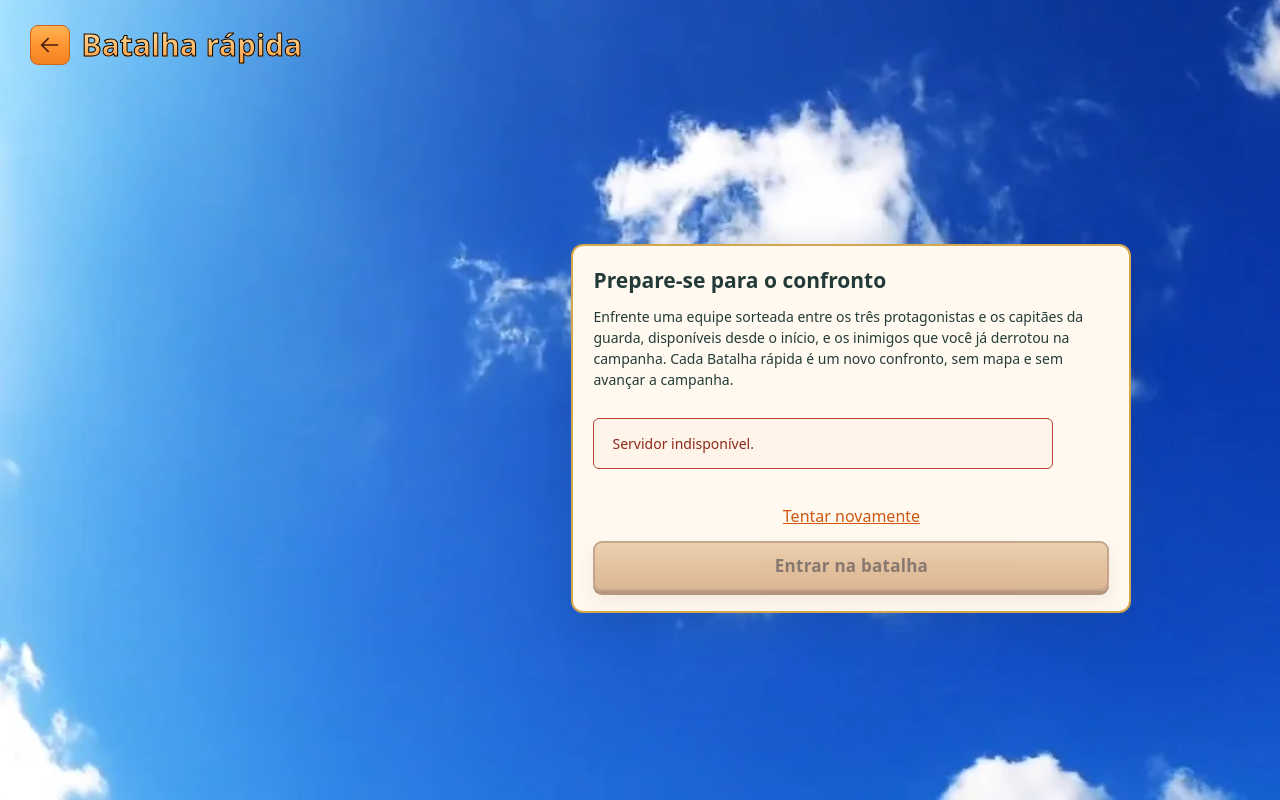
Test case: permite tentar novamente após erro de carregamento
expect the message reads "Servidor indisponível.": met, box [612,434,754,453]
expect the button "Entrar na batalha" is disabled: met, box [594,541,1110,591]
What coordinates should you click on to do the following:
click the button "Tentar novamente"
I would click on:
 (851, 516)
Its box is [775,497,928,535].
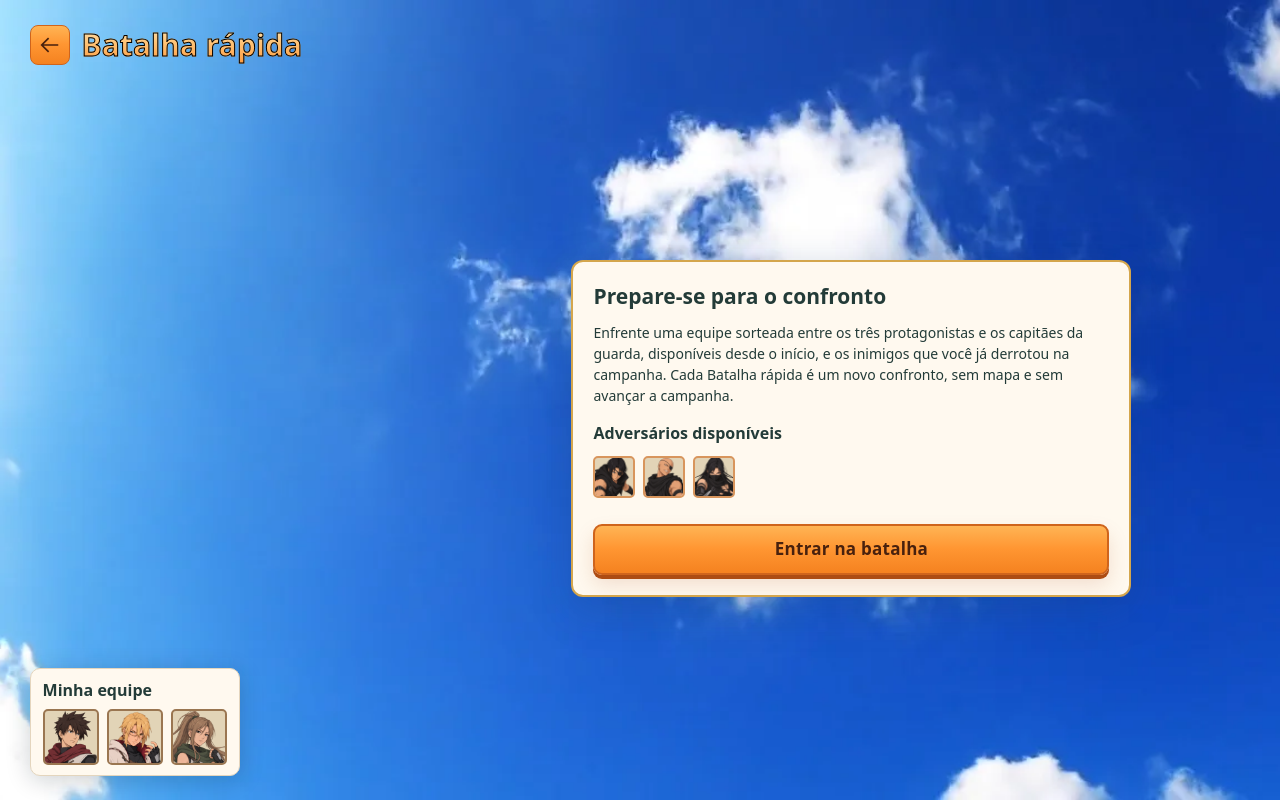
expect the list named "Adversários disponíveis" is shown: met, box [594,456,736,498]
